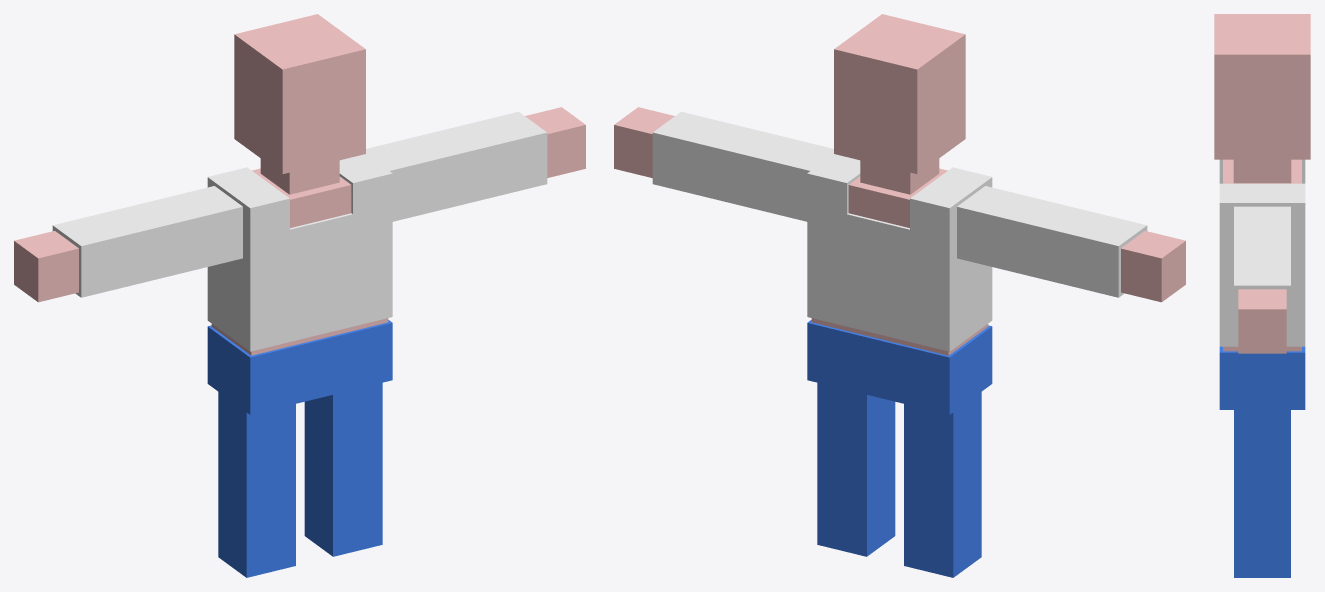
File: public_character_model_noface.fbx
3 renders of one model, left to right at view 1: azimuth 30°, elevation 25°; view 2: azimuth 150°, elevation 25°; view 3: azimuth 270°, elevation 25°, orthographic.
Visible parts, largest first — view 1: Top_2, BodyMesh, ArmR, ArmL, LegR, LegL, Pants, Body; view 2: Top_2, BodyMesh, ArmR, ArmL, LegR, LegL, Pants, Body; view 3: BodyMesh, LegL, ArmL, Top_2, Pants, Body.
Boxes of the visible parts, left/top/right/bottom form: Top_2: left=207, top=154, right=392, bottom=351; BodyMesh: left=234, top=14, right=365, bottom=194; ArmR: left=14, top=186, right=242, bottom=302; ArmL: left=366, top=107, right=585, bottom=221; LegR: left=218, top=392, right=295, bottom=577; LegL: left=304, top=382, right=382, bottom=556; Pants: left=207, top=320, right=392, bottom=414; Body: left=211, top=168, right=388, bottom=355; Top_2: left=807, top=154, right=992, bottom=351; BodyMesh: left=834, top=14, right=965, bottom=194; ArmR: left=957, top=186, right=1185, bottom=302; ArmL: left=614, top=107, right=833, bottom=221; LegR: left=904, top=392, right=981, bottom=577; LegL: left=817, top=382, right=895, bottom=556; Pants: left=807, top=320, right=992, bottom=414; Body: left=811, top=168, right=988, bottom=355; BodyMesh: left=1214, top=14, right=1310, bottom=183; LegL: left=1234, top=410, right=1290, bottom=577; ArmL: left=1234, top=206, right=1290, bottom=353; Top_2: left=1219, top=159, right=1305, bottom=346; Pants: left=1219, top=346, right=1305, bottom=409; Body: left=1223, top=159, right=1301, bottom=351.
Size of the model in its own units: 200 by 177 by 30.41.
